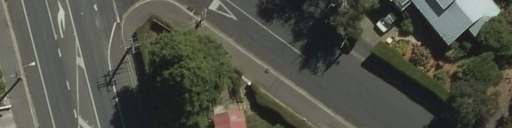DT: (112, 35, 145, 62), (187, 4, 214, 32)
